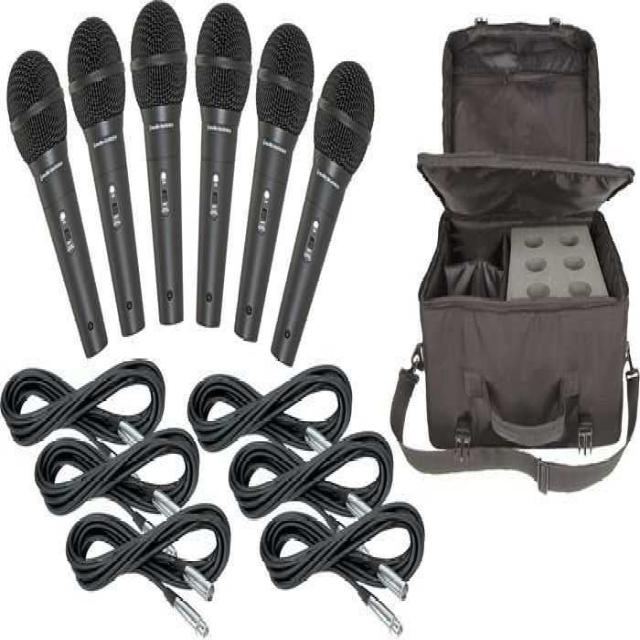microphone: (7, 48, 111, 357), (279, 61, 374, 366), (67, 15, 145, 332), (238, 24, 312, 338), (130, 0, 189, 320), (194, 5, 252, 324), (316, 62, 374, 177), (256, 26, 313, 140)
